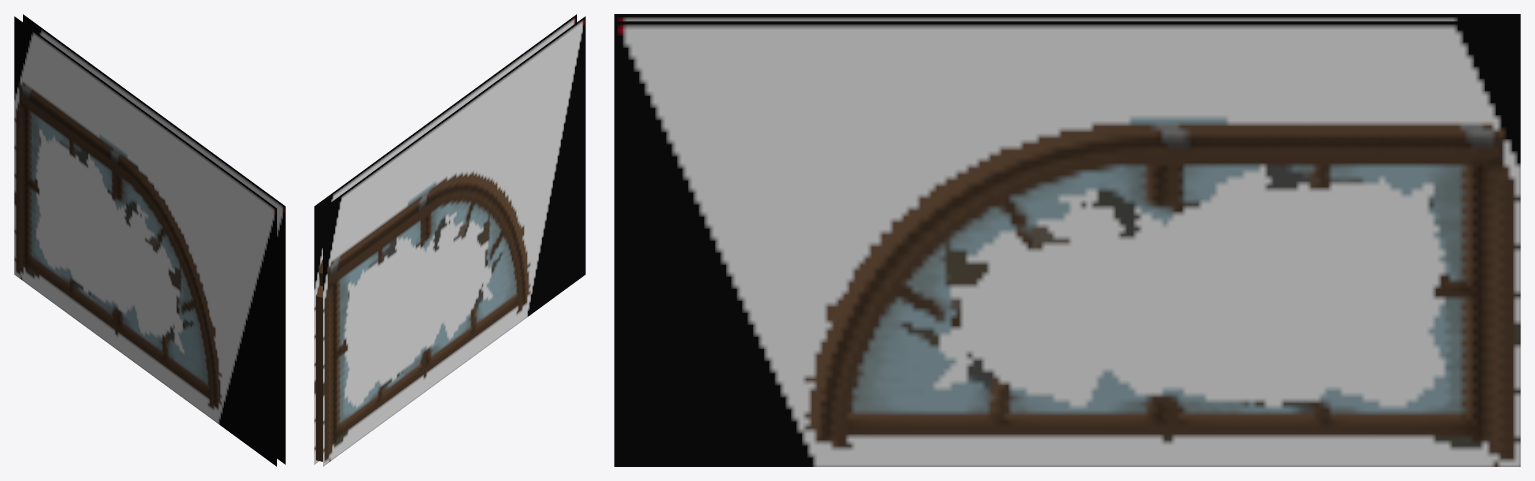
Rendered from pz_native_fixtures_windows_wood_56_frame.obj.
3 views of the same model, side by side, from view 1: azimuth 30°, elevation 25°; view 2: azimuth 150°, elevation 25°; view 3: azimuth 270°, elevation 25° (orthographic). The views are drawn at different scales.
Visible parts, largest first — view 1: pz_native_fixtures_windows_wood_56_frame; view 2: pz_native_fixtures_windows_wood_56_frame; view 3: pz_native_fixtures_windows_wood_56_frame.
Boxes of the visible parts, x1=… form: pz_native_fixtures_windows_wood_56_frame: x1=14, y1=14, x2=285, y2=466; pz_native_fixtures_windows_wood_56_frame: x1=314, y1=14, x2=585, y2=466; pz_native_fixtures_windows_wood_56_frame: x1=614, y1=14, x2=1520, y2=466.
Size of the model in its own units: 0.04 by 1.16 by 2.13.
1 material, 1 textured.
